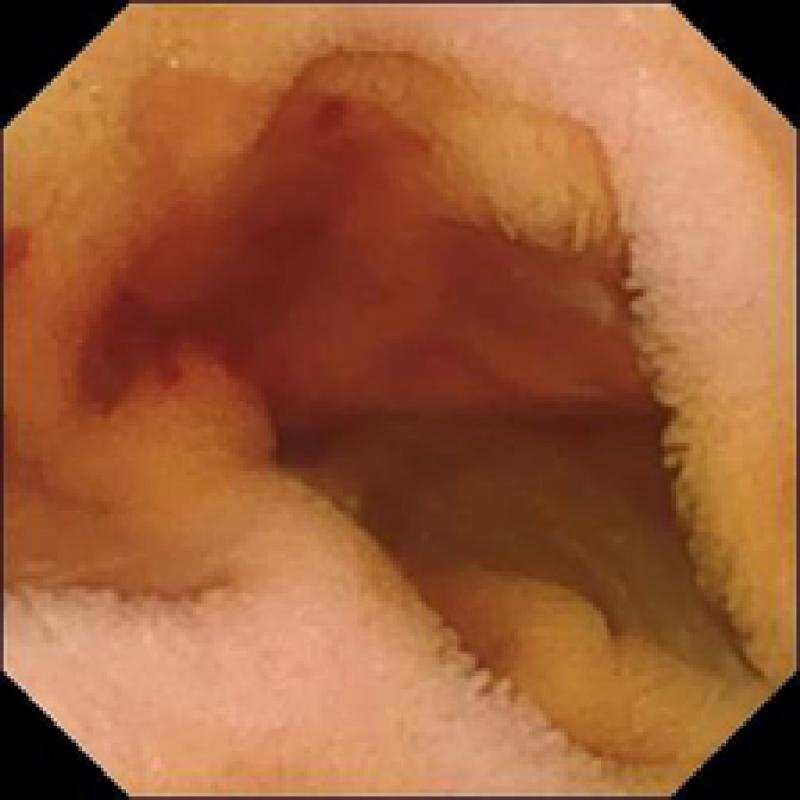bleeding: (65, 82, 422, 404), (4, 216, 43, 284)
